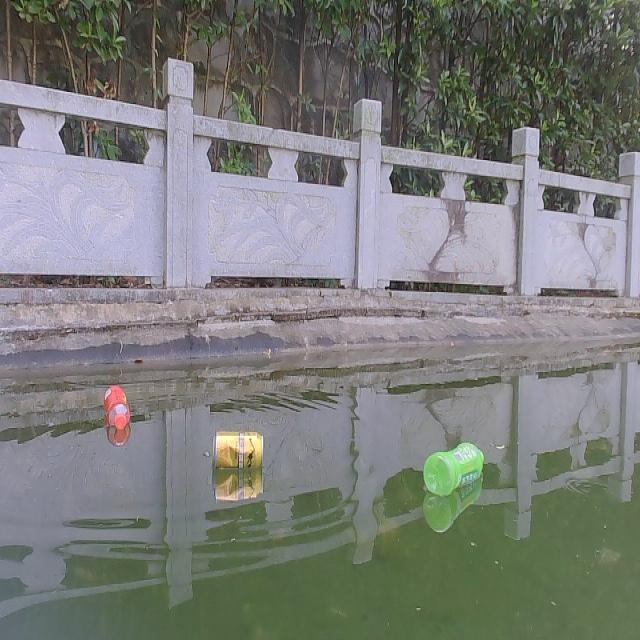bottle: (420, 441, 488, 499), (103, 384, 132, 431)
can: (211, 430, 268, 470)
